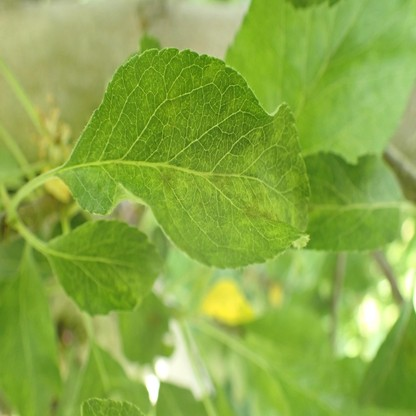scab: (114, 269, 144, 303), (157, 166, 177, 199), (243, 204, 271, 224), (210, 174, 229, 195)
